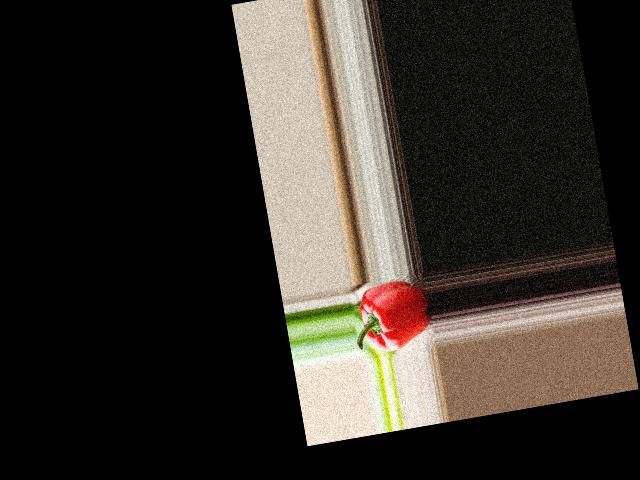bell_pepper: (350, 277, 437, 358)
